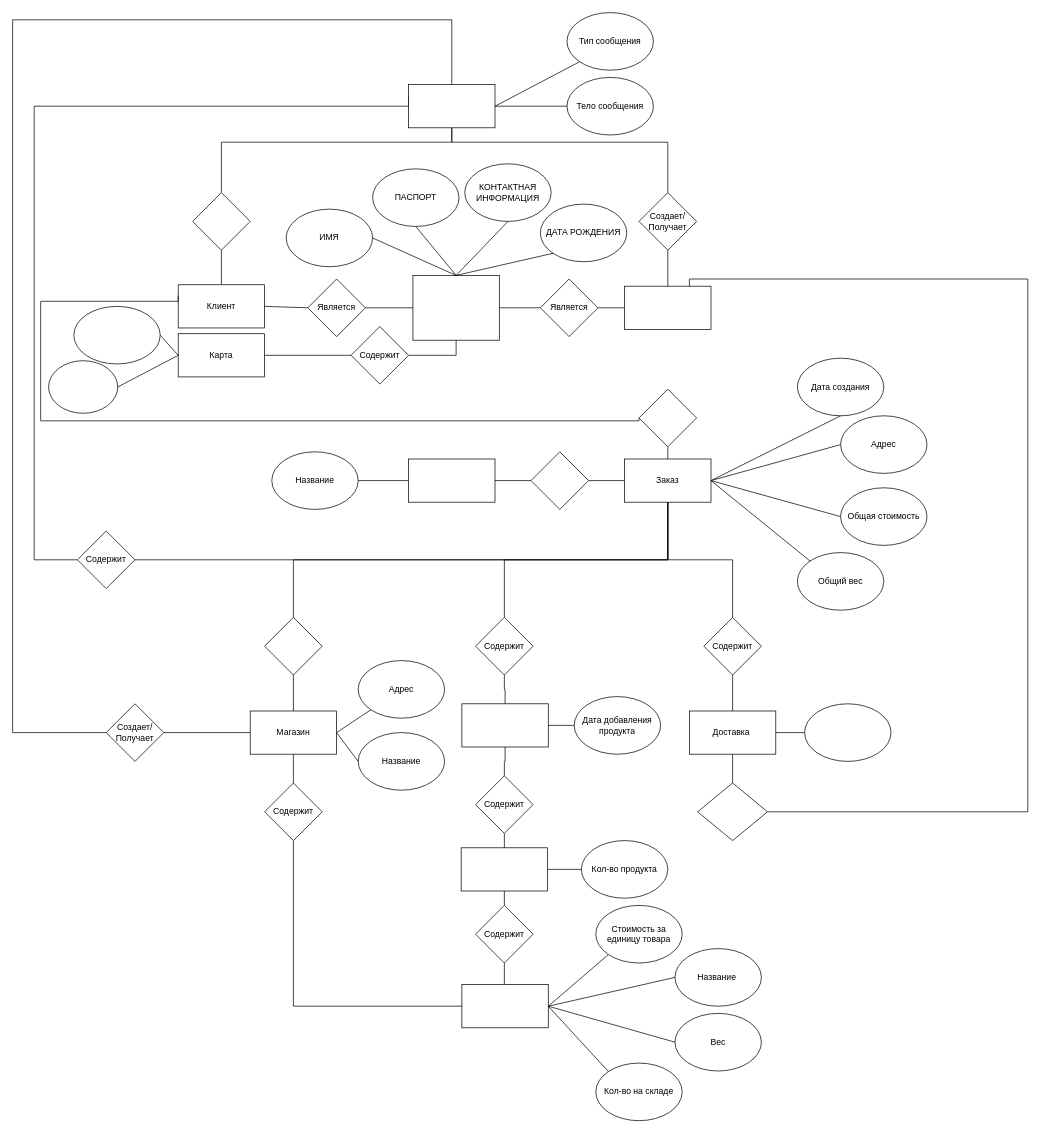
The diagram is 1041 pixels wide and 1133 high, and some of its shapes have lost their labels. Each missing label, with the centre of its shape:
"Выполняется" goes at pixel 732 811.
"Имеет" goes at pixel 559 480.
"Корзина" goes at pixel 504 725.
"Курьер" goes at pixel 667 307.
"Номер карты" goes at pixel 116 335.
"Оформляет" goes at pixel 667 417.
"Продукт" goes at pixel 504 1006.
"Создает" goes at pixel 293 646.
"Создает / Получает" goes at pixel 221 221.
"Сообщение" goes at pixel 451 106.
"Срок действия карты" goes at pixel 83 386.
"Статус заказа" goes at pixel 451 480.
"Статус оплаты" goes at pixel 847 732.
"Человек" goes at pixel 455 307.
"Элемент корзины" goes at pixel 504 869.
